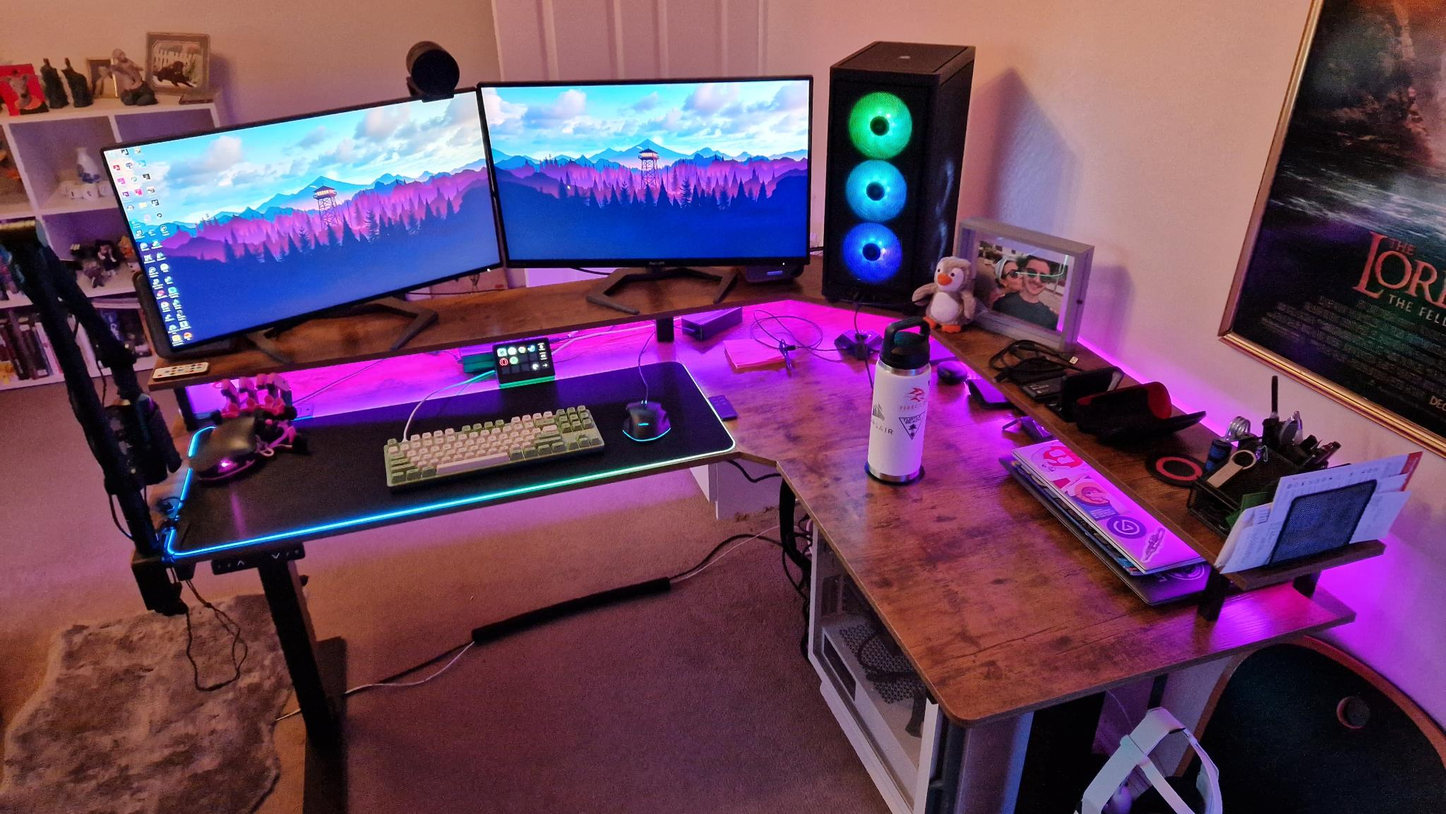keyboard: (373, 399, 612, 496)
monitor: (94, 76, 507, 372), (478, 69, 820, 272)
mouse: (616, 392, 677, 450)
pc: (822, 33, 979, 307)
